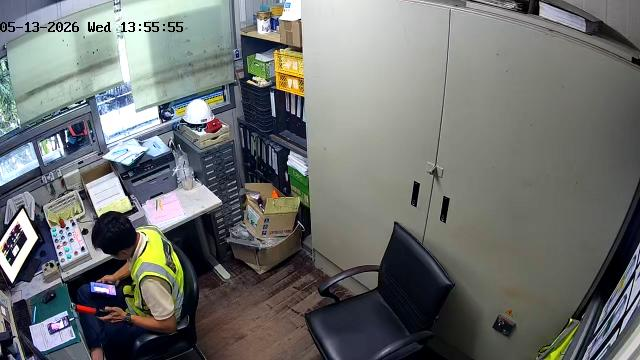Head: (92, 211, 137, 259)
People: (77, 212, 183, 359)
Phone: (48, 316, 69, 333), (90, 282, 115, 295)
